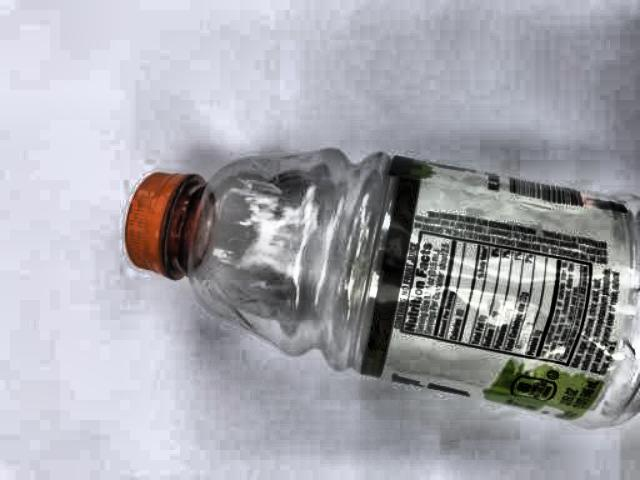Bottles: (100, 135, 640, 436)
